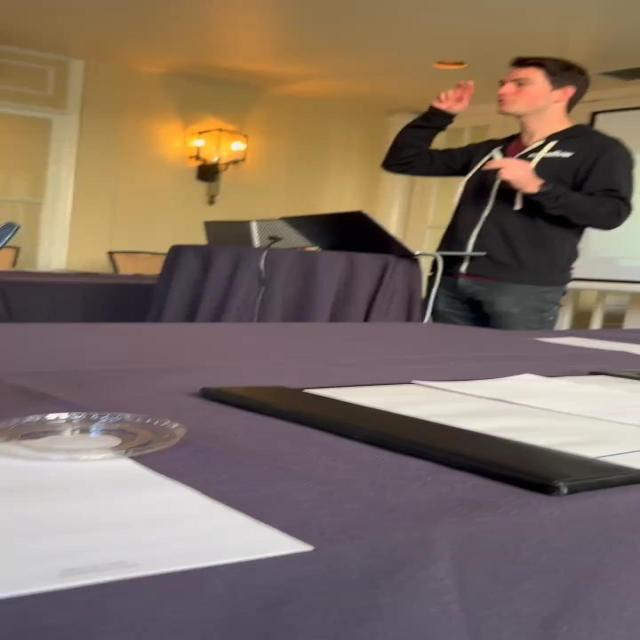NO-Mask: (497, 66, 566, 116)
